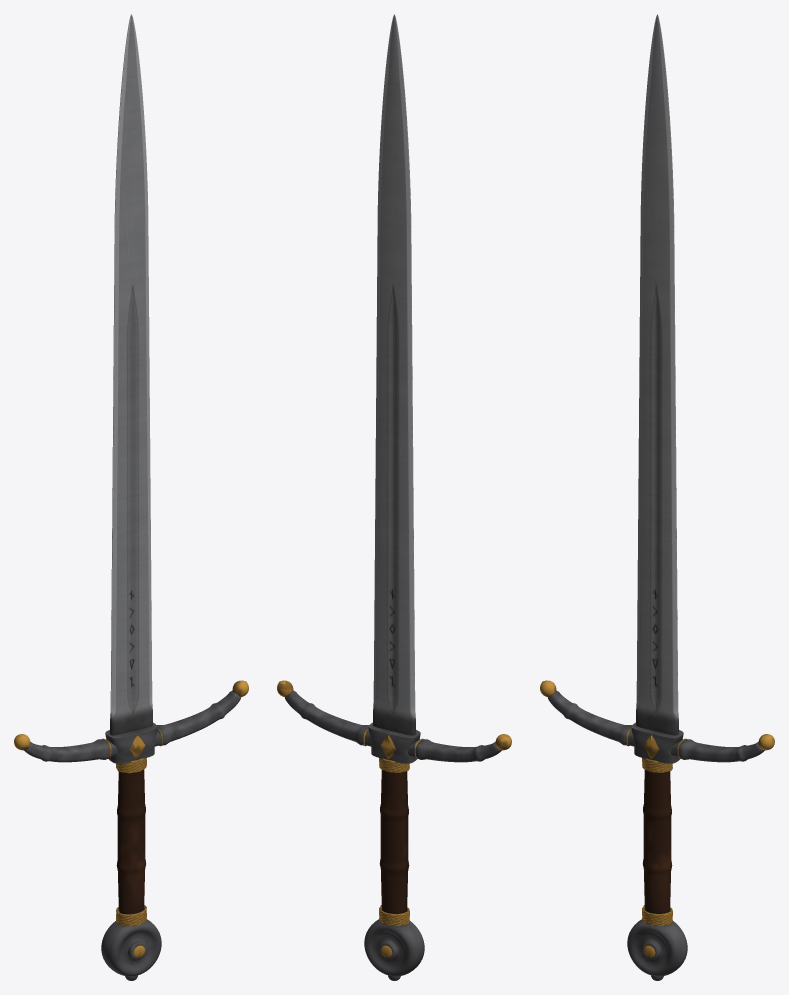
The model's file is sword_epic_hd.glb.
The picture shows the model from 3 angles, left to right: view 1: azimuth 30°, elevation 25°; view 2: azimuth 150°, elevation 25°; view 3: azimuth 330°, elevation 25°; orthographic projection.
Visible parts, largest first — view 1: Weapon; view 2: Weapon; view 3: Weapon.
Boxes of the visible parts, bbox=[...] form: Weapon: bbox=[14, 14, 248, 980]; Weapon: bbox=[277, 14, 511, 980]; Weapon: bbox=[540, 14, 774, 980].
Size of the model in its own units: 0.2943 by 1.17 by 0.037.
Materials: 1 (1 with a texture image).
